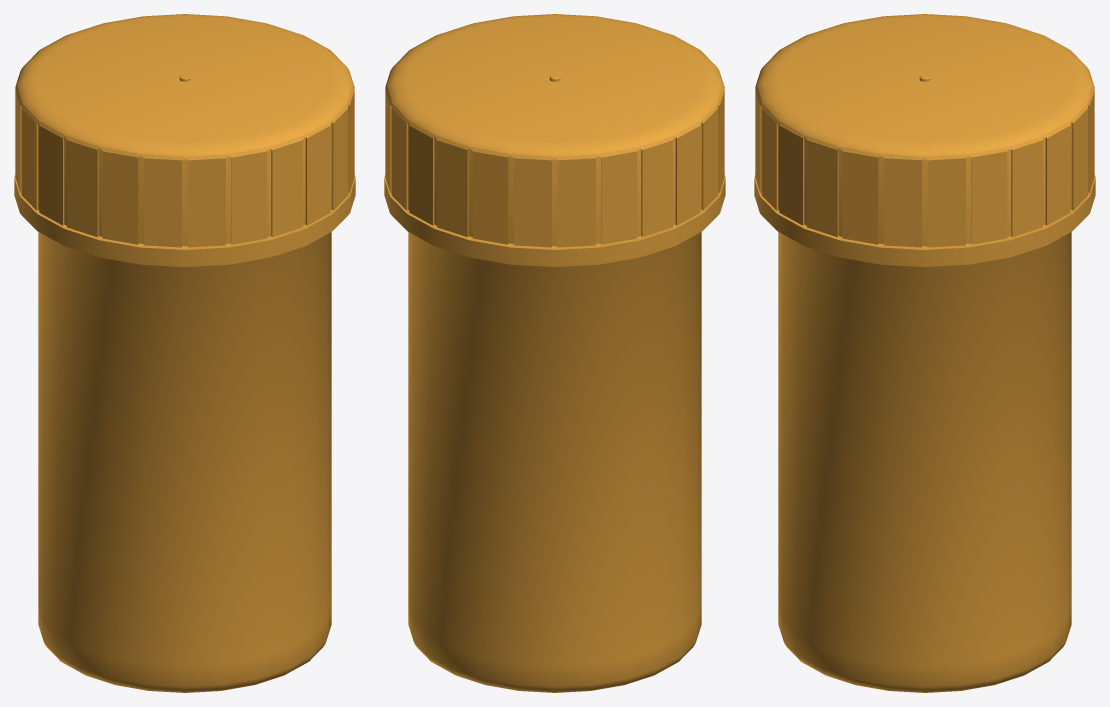
Rendered from SM_Pill-Bottle_mesh_lod0.fbx.
3 renders of one model, left to right at view 1: azimuth 30°, elevation 25°; view 2: azimuth 150°, elevation 25°; view 3: azimuth 270°, elevation 25°, orthographic.
Visible parts, largest first — view 1: container, Lid; view 2: container, Lid; view 3: container, Lid.
Part boxes in pixels (bbox=[...]): container: bbox=[14, 175, 355, 692]; Lid: bbox=[15, 14, 354, 247]; container: bbox=[384, 175, 725, 692]; Lid: bbox=[385, 14, 724, 247]; container: bbox=[754, 175, 1095, 692]; Lid: bbox=[755, 14, 1094, 247].
Size of the model in its own units: 23.43 by 42.2 by 23.43.
